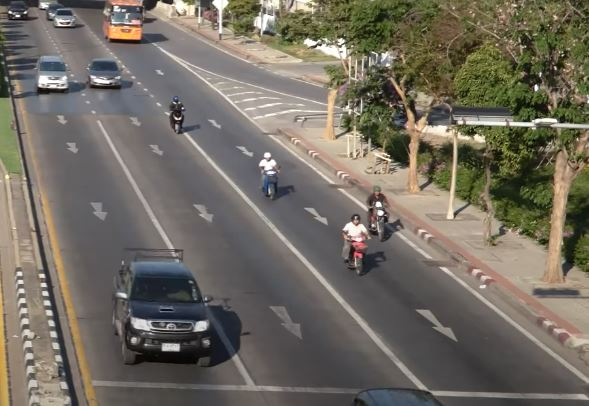Bus: (101, 1, 144, 42)
Car: (110, 247, 215, 367), (33, 54, 70, 94), (86, 56, 123, 91), (5, 1, 29, 23), (53, 8, 76, 28)
Motorcycle: (340, 213, 371, 275), (367, 185, 392, 242), (259, 149, 282, 202), (167, 95, 187, 135)
